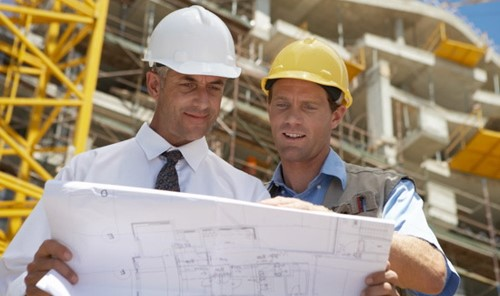face_no_mask: (154, 35, 226, 142), (268, 64, 336, 165)
